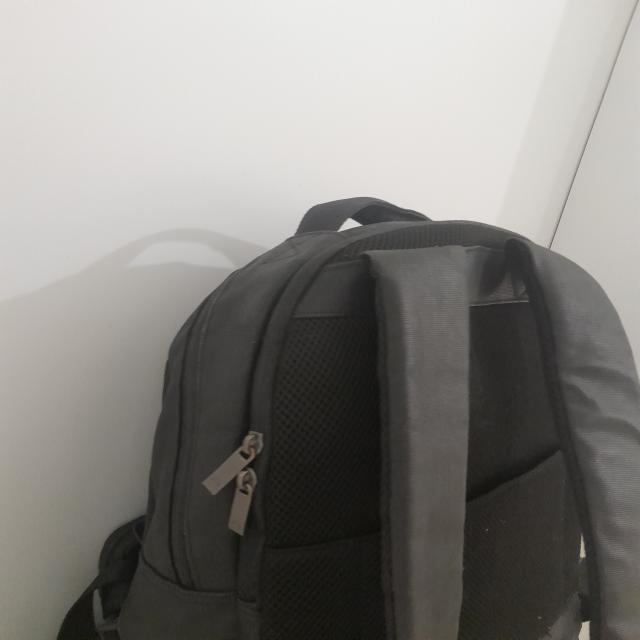backpack: (59, 196, 640, 640)
